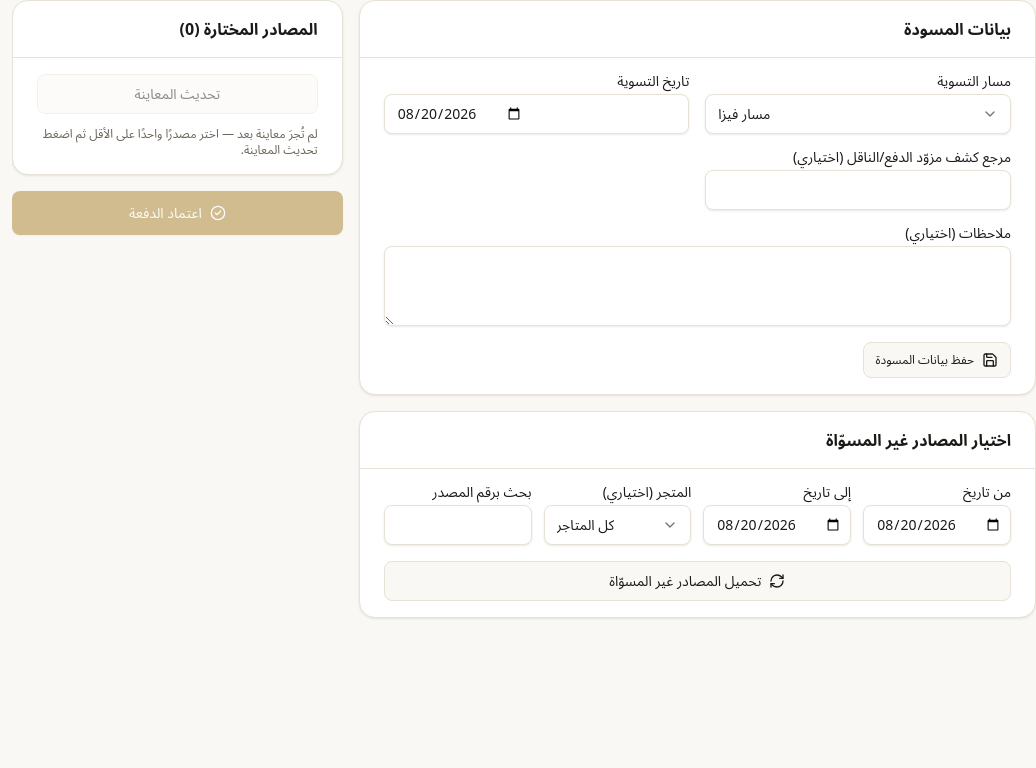
Test: SettlementDraftWorkspace — Preview state machine (Patch 7.1 §16/§33) › stale after a source date-range change — sourceDateFrom/sourceDateTo are both part of the preview key
The width and height of the screenshot is (1036, 768).
Step 1. Click the button "تحميل المصادر غير المسوّاة" → (697, 581), box [384, 561, 1011, 601]
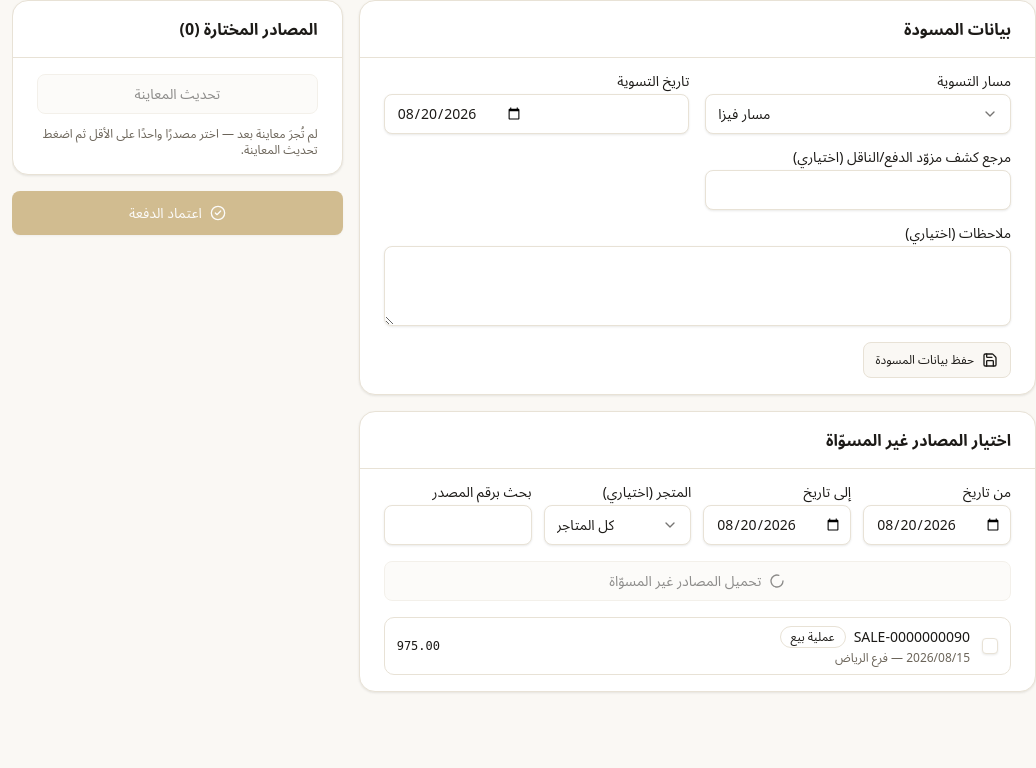
Expected: the text "SALE-0000000090" is shown, [854, 627, 970, 646]
Step 2. Click the checkbox → (990, 646), box [982, 638, 998, 654]
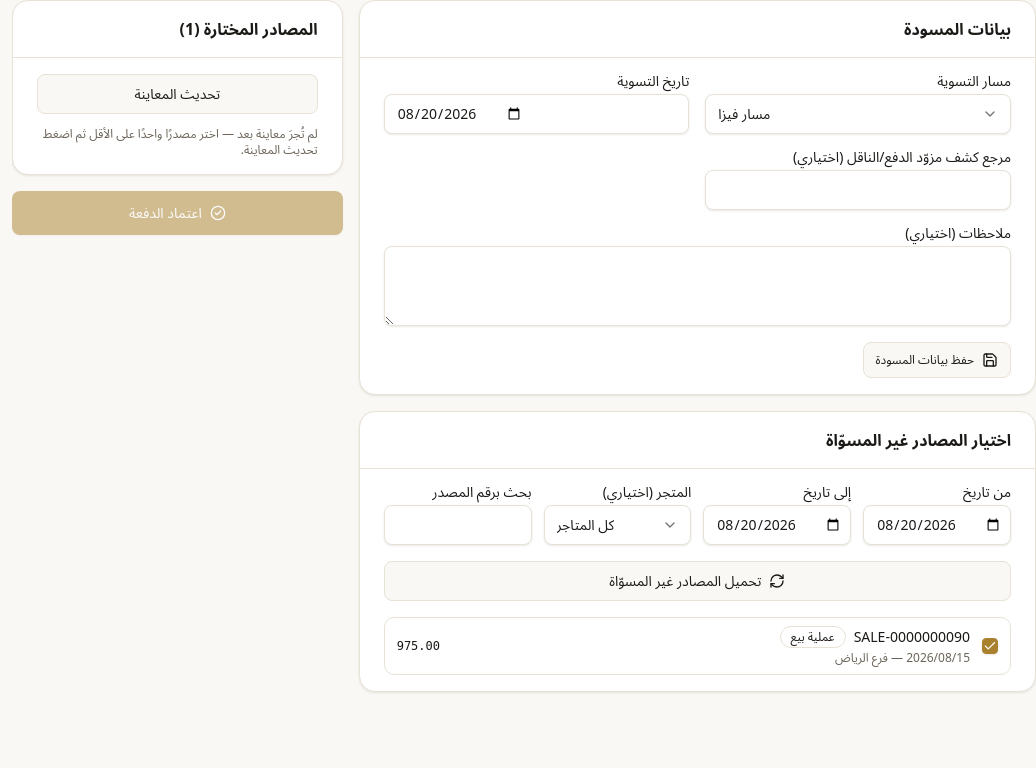
Step 3. Click the button "تحديث المعاينة" → (177, 94), box [37, 74, 318, 114]
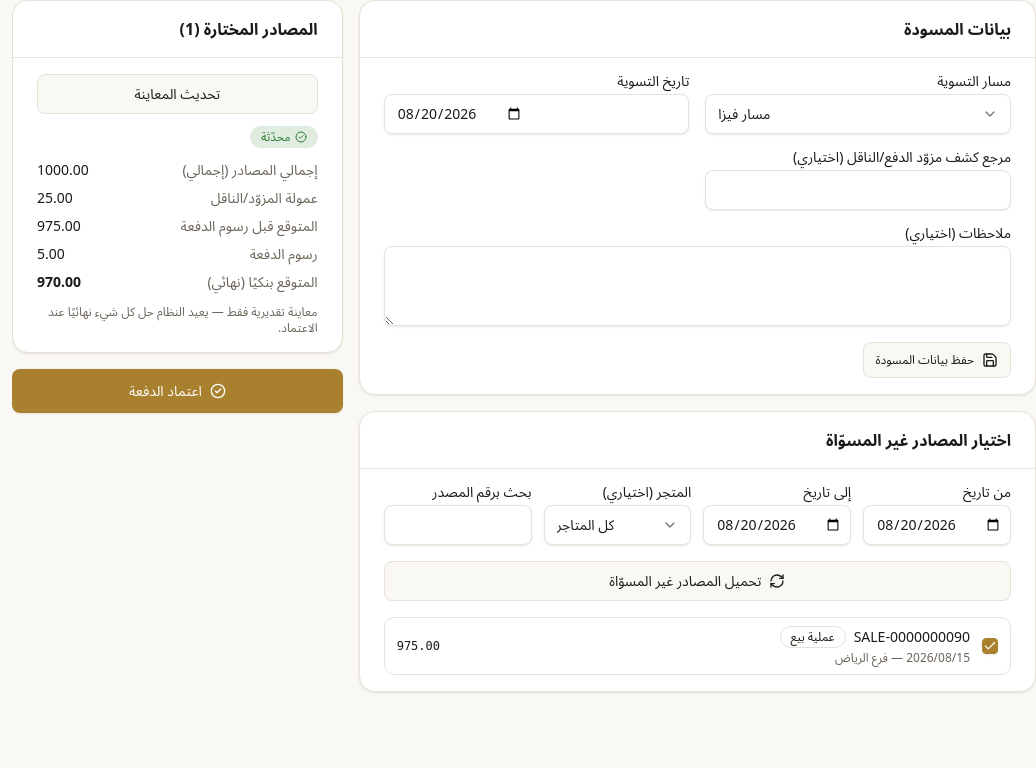
Expected: the text "محدّثة" is shown, [250, 126, 318, 148]
Step 4. Type "2026-08-25" into the date field below "إلى تاريخ" → (777, 525), box [703, 505, 851, 545]
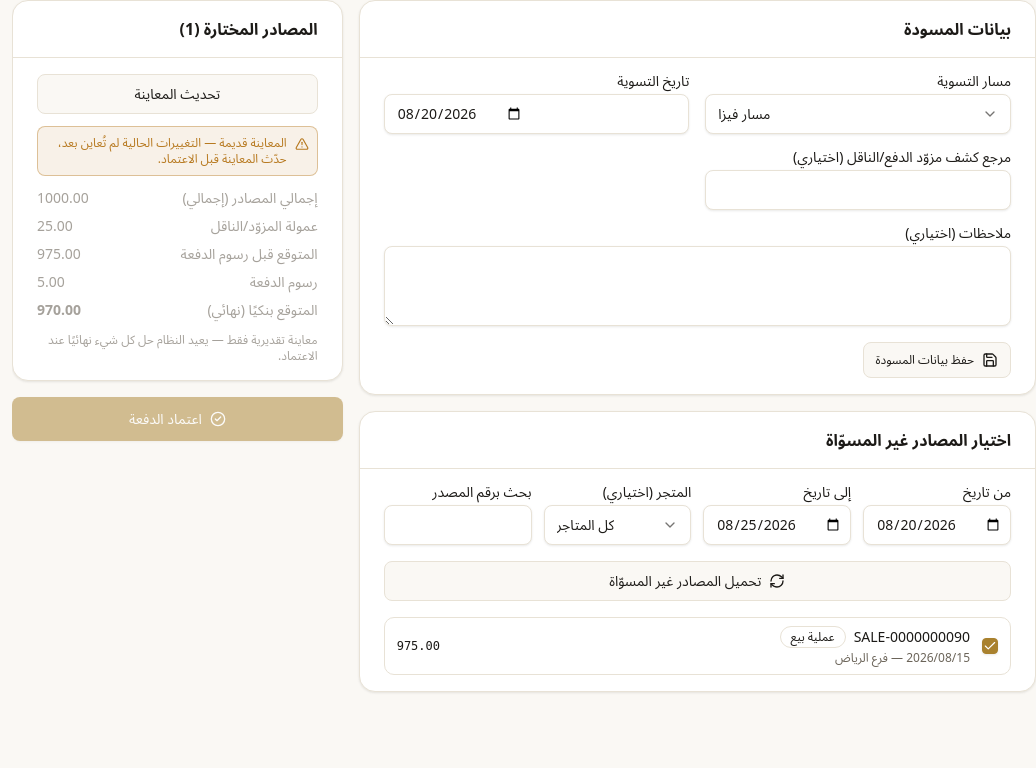
Expected: the text "محدّثة" is gone
Expected: the text "المعاينة قديمة" is shown, [58, 134, 287, 167]
Expected: the button "اعتماد الدفعة" is disabled, [12, 397, 343, 441]
